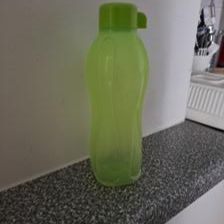bottle: (86, 0, 152, 186)
